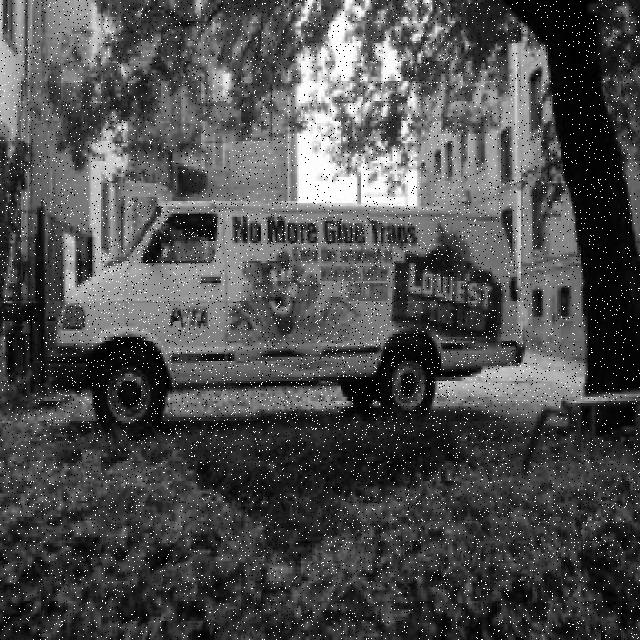Van: (48, 202, 529, 442)
